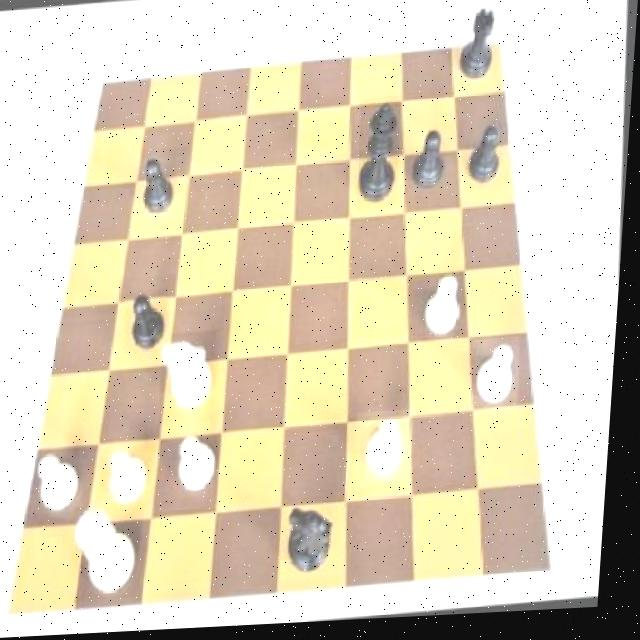black-bishop: (356, 100, 406, 214)
black-king: (287, 502, 347, 587)
black-knight: (137, 157, 184, 225), (409, 135, 456, 200), (127, 292, 173, 357), (467, 126, 508, 195)
black-queen: (452, 11, 509, 91)
white-bishop: (76, 503, 152, 604)
white-king: (164, 332, 227, 427)
white-knight: (359, 413, 422, 491), (104, 437, 164, 515), (30, 449, 91, 518), (425, 271, 474, 353), (475, 342, 528, 417), (179, 432, 231, 507)
